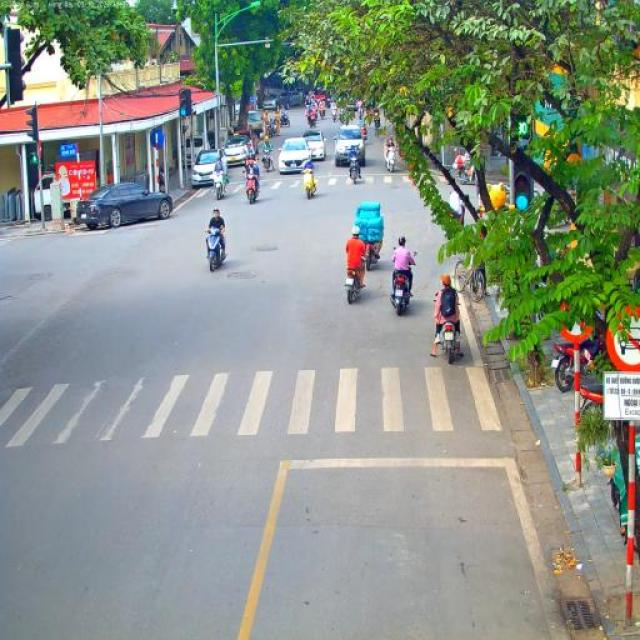car: (76, 182, 174, 230), (192, 148, 228, 190), (333, 124, 366, 167), (278, 136, 313, 175), (222, 133, 252, 172), (301, 130, 327, 161), (264, 91, 291, 111), (288, 91, 303, 107)
motorcycle: (550, 336, 602, 393), (389, 251, 418, 317), (436, 320, 464, 364), (204, 226, 228, 272), (342, 266, 368, 304), (577, 375, 604, 410), (362, 240, 381, 271), (210, 167, 226, 201), (303, 166, 317, 200), (244, 158, 260, 186), (246, 174, 260, 205), (348, 155, 362, 185), (452, 161, 468, 184), (261, 148, 275, 172), (385, 146, 396, 173), (280, 112, 291, 128), (359, 125, 368, 144), (306, 114, 318, 128), (268, 120, 277, 136), (330, 108, 340, 121), (373, 114, 381, 128), (318, 108, 327, 120), (339, 111, 346, 124), (357, 109, 362, 120), (368, 108, 372, 121)
truck: (246, 110, 262, 140), (234, 130, 254, 149)
